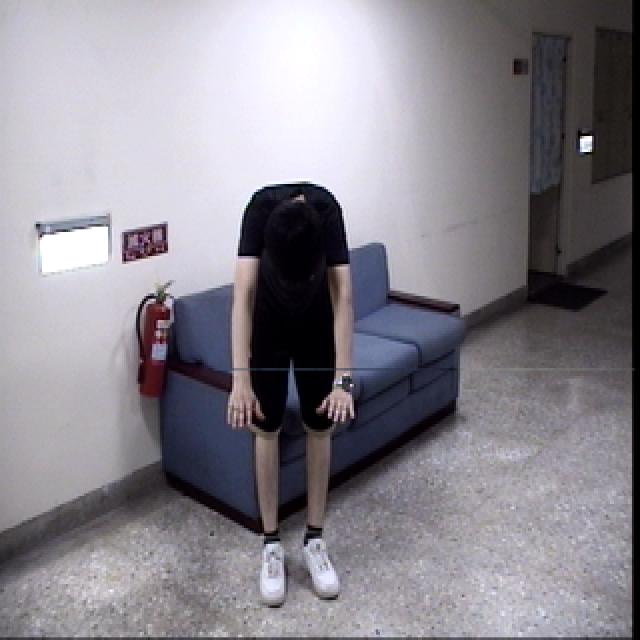bend: (218, 172, 367, 615)
